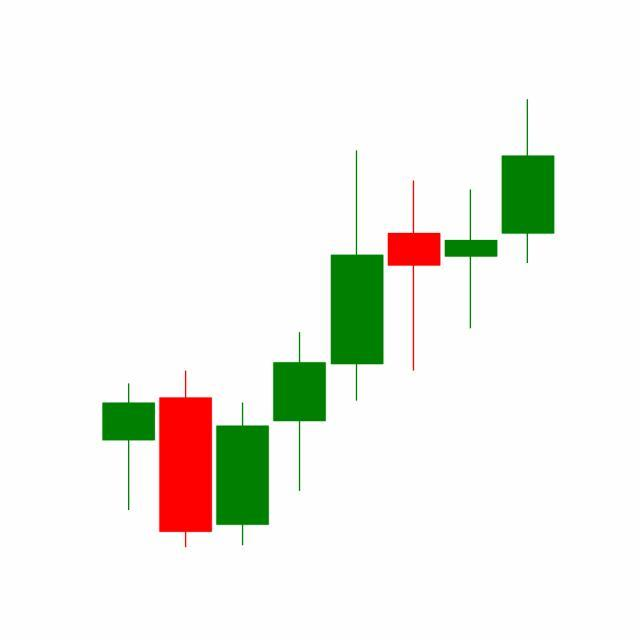Hikkake Pattern: (270, 99, 555, 496)
